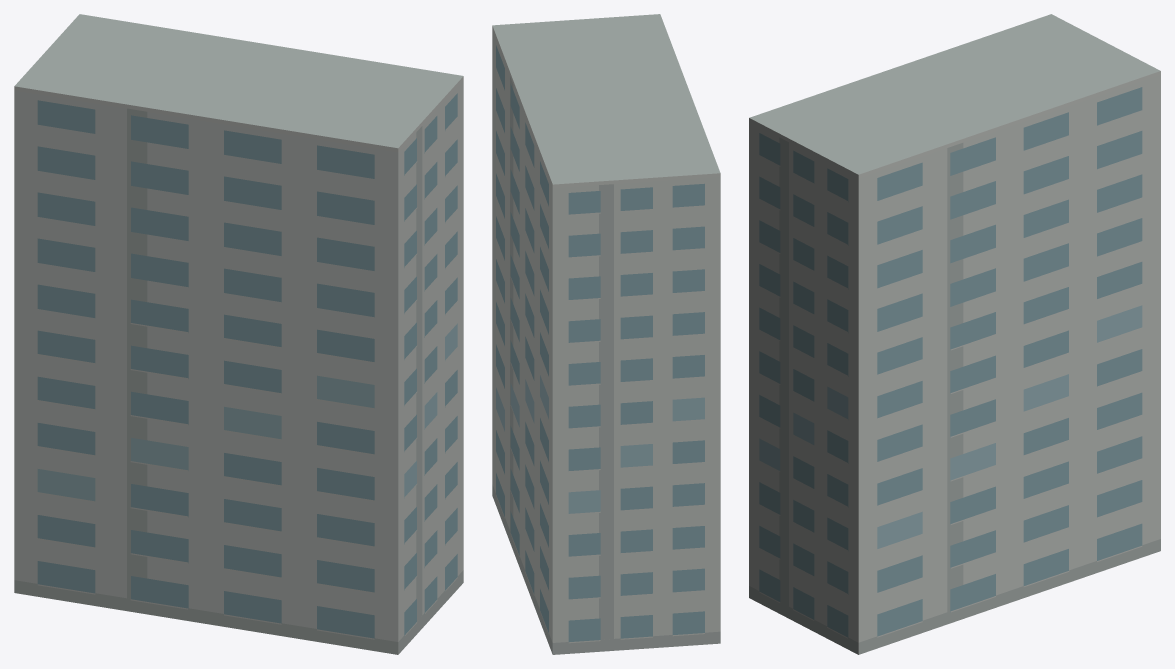
The model's file is residential-27dca53d-9f16-47cd-b3c8-53bf1d005dd9.glb.
3 renders of one model, left to right at view 1: azimuth 30°, elevation 25°; view 2: azimuth 150°, elevation 25°; view 3: azimuth 270°, elevation 25°, orthographic. The views are drawn at different scales.
Visible parts, largest first — view 1: residential-27dca53d-9f16-47cd-b3c8-53bf1d005dd9.tmp; view 2: residential-27dca53d-9f16-47cd-b3c8-53bf1d005dd9.tmp; view 3: residential-27dca53d-9f16-47cd-b3c8-53bf1d005dd9.tmp.
Boxes of the visible parts, left/top/right/bottom form: residential-27dca53d-9f16-47cd-b3c8-53bf1d005dd9.tmp: left=14, top=14, right=463, bottom=654; residential-27dca53d-9f16-47cd-b3c8-53bf1d005dd9.tmp: left=492, top=14, right=720, bottom=654; residential-27dca53d-9f16-47cd-b3c8-53bf1d005dd9.tmp: left=749, top=14, right=1160, bottom=654.
Bounding box in the file's own units: 22.27 × 31 × 24.1.
